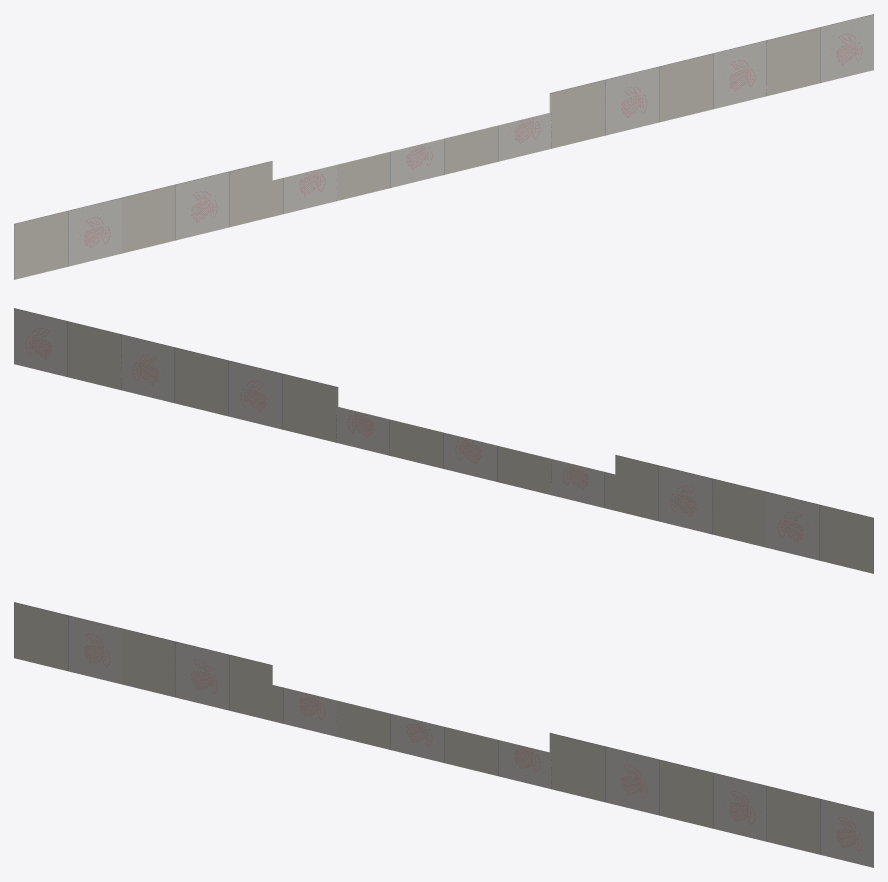
File: kd_stage_135d18_4_112_bounded_piece_1.glb
The picture shows the model from 3 angles, top to bottom: view 1: azimuth 30°, elevation 25°; view 2: azimuth 150°, elevation 25°; view 3: azimuth 330°, elevation 25°; orthographic projection.
Parts seen in each view (by area): view 1: kd_stage_135d18_4_112_bounded_piece_1; view 2: kd_stage_135d18_4_112_bounded_piece_1; view 3: kd_stage_135d18_4_112_bounded_piece_1.
Part boxes in pixels (bbox=[...]): kd_stage_135d18_4_112_bounded_piece_1: bbox=[14, 14, 873, 279]; kd_stage_135d18_4_112_bounded_piece_1: bbox=[14, 308, 873, 573]; kd_stage_135d18_4_112_bounded_piece_1: bbox=[14, 602, 873, 867].
Size of the model in its own units: 3.19 by 0.1988 by 0.
1 material, 1 textured.
